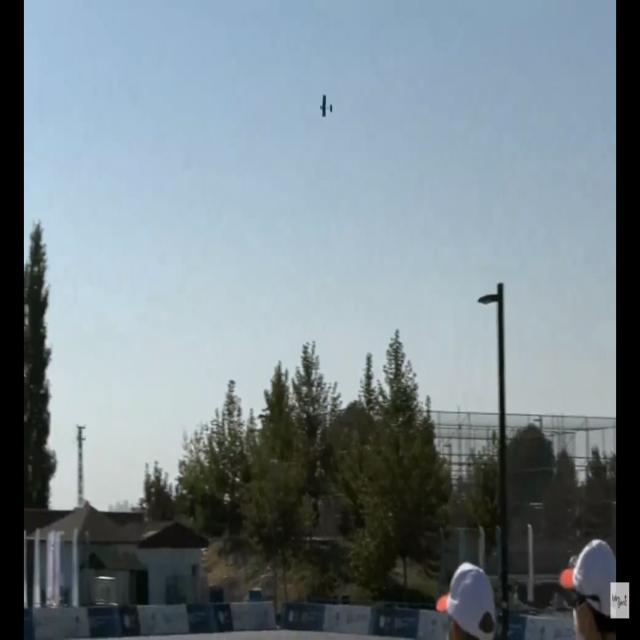iha: (320, 30, 332, 55)
